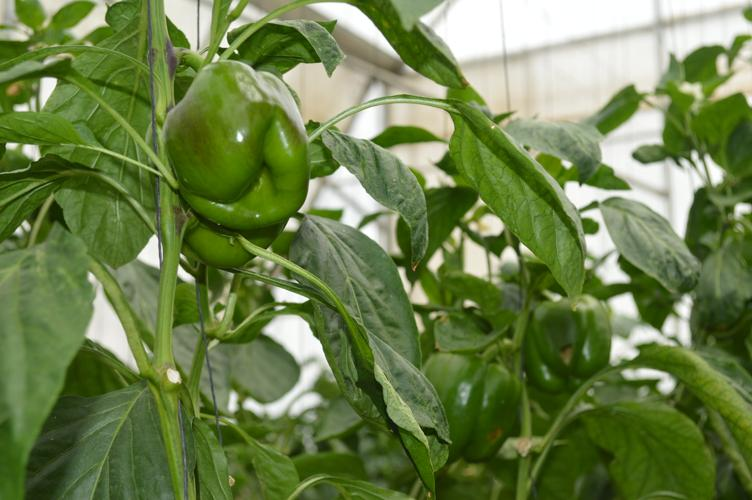BellPepper: (143, 63, 314, 226), (393, 325, 523, 471), (516, 294, 618, 394)
